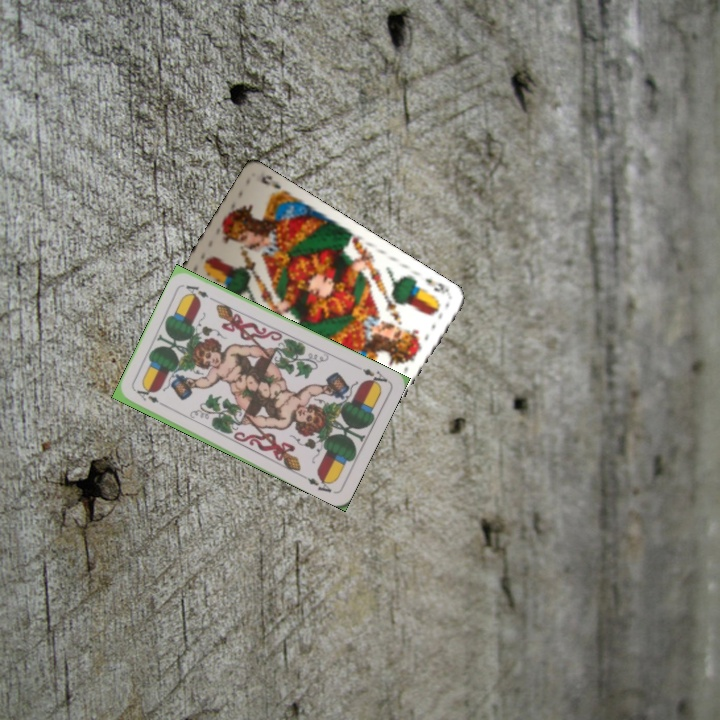EA: (352, 362, 390, 389), (132, 386, 169, 409)
EK: (420, 274, 452, 297)
